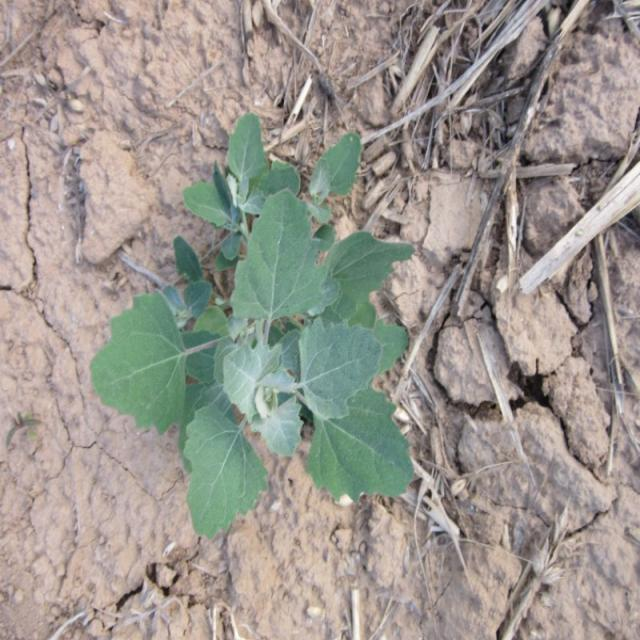ca: (88, 120, 416, 535)
